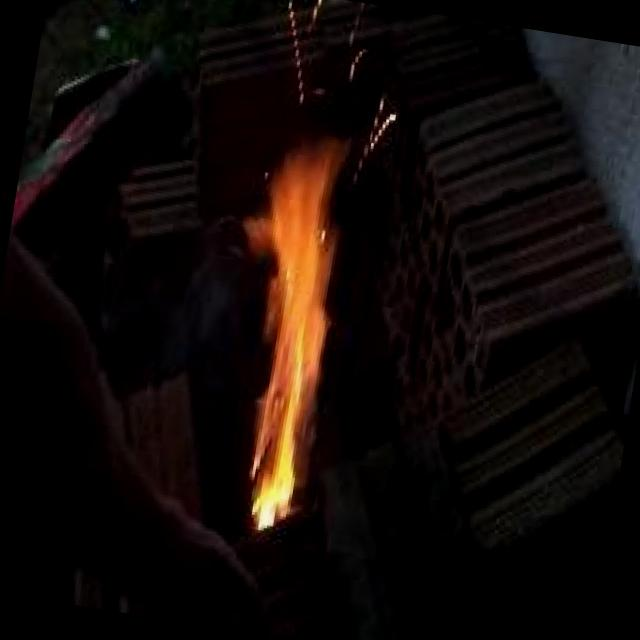fire: (180, 106, 427, 555)
